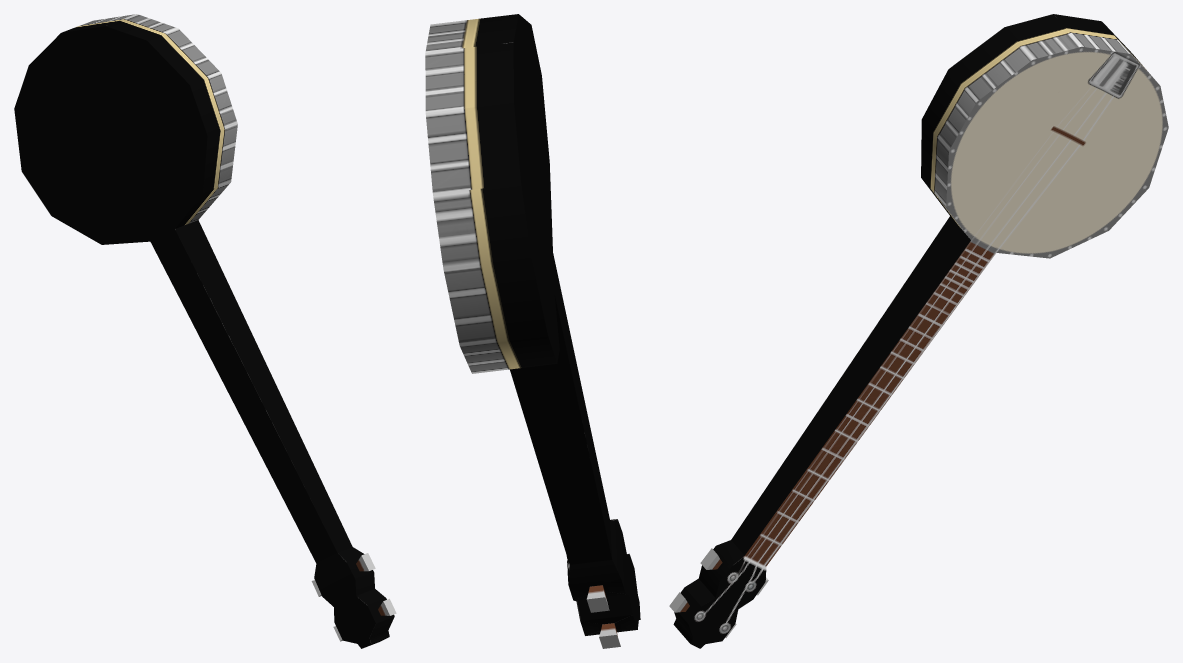
The model's file is Guitarra1_000008.obj.
The picture shows the model from 3 angles, left to right: view 1: azimuth 30°, elevation 25°; view 2: azimuth 150°, elevation 25°; view 3: azimuth 270°, elevation 25°; orthographic projection. The views are drawn at different scales.
Visible parts, largest first — view 1: g1_pCube6; view 2: g1_pCube6; view 3: g1_pCube6.
Boxes of the visible parts, box(x1,y1,x2,y2) form: g1_pCube6: box(14, 14, 396, 648); g1_pCube6: box(425, 14, 640, 648); g1_pCube6: box(669, 14, 1168, 648).
Size of the model in its own units: 3.96 by 11.34 by 8.92.
